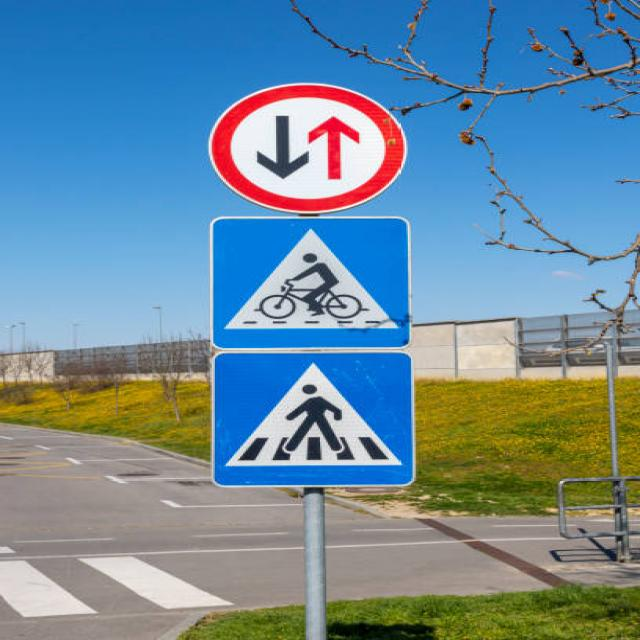crosswalk: (198, 348, 435, 492)
